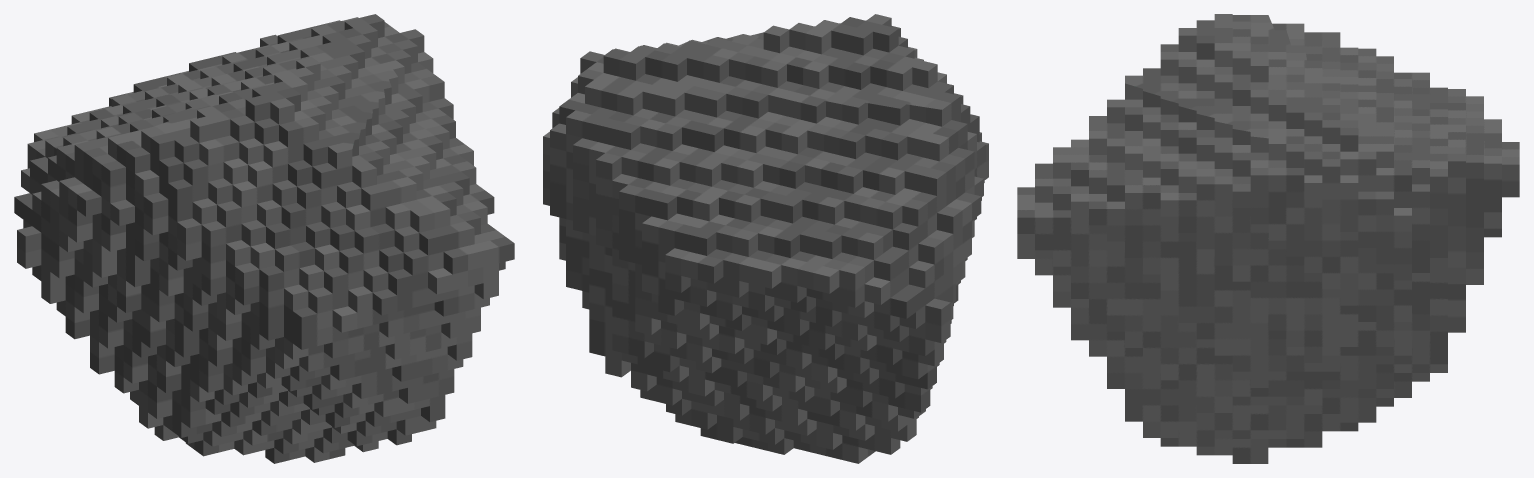
File: Asteroid_A8.fbx
3 views of the same model, side by side, from view 1: azimuth 30°, elevation 25°; view 2: azimuth 150°, elevation 25°; view 3: azimuth 270°, elevation 25° (orthographic). The views are drawn at different scales.
Visible parts, largest first — view 1: T1-7; view 2: T1-7; view 3: T1-7.
Boxes of the visible parts, x1,y1,x2,y2 form: T1-7: [14, 14, 514, 463]; T1-7: [543, 14, 988, 463]; T1-7: [1017, 14, 1519, 463].
Size of the model in its own units: 240 by 240 by 280.
